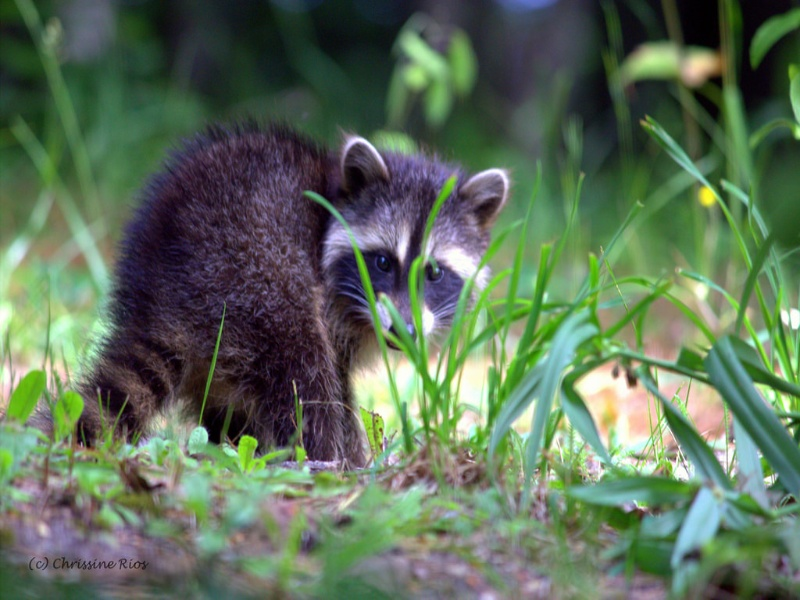raccoon: (55, 111, 516, 502)
